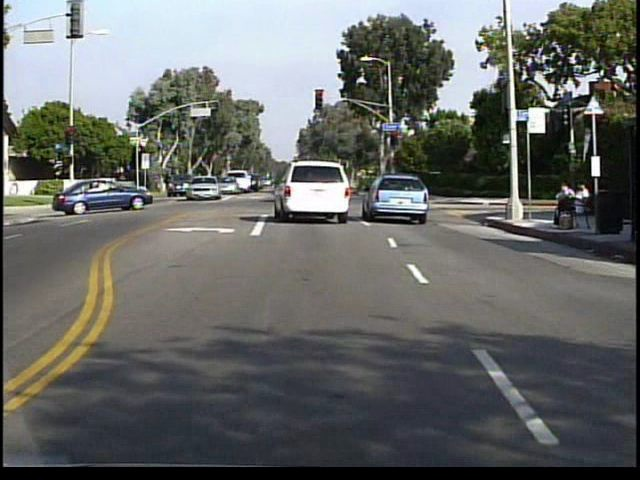person: (551, 179, 577, 230), (572, 179, 592, 230)
